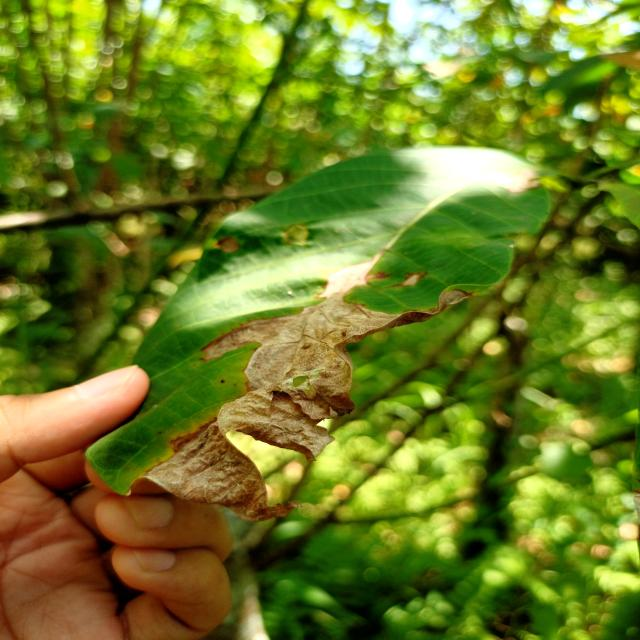Leaf-Blight: (122, 253, 471, 521), (402, 276, 420, 286)
